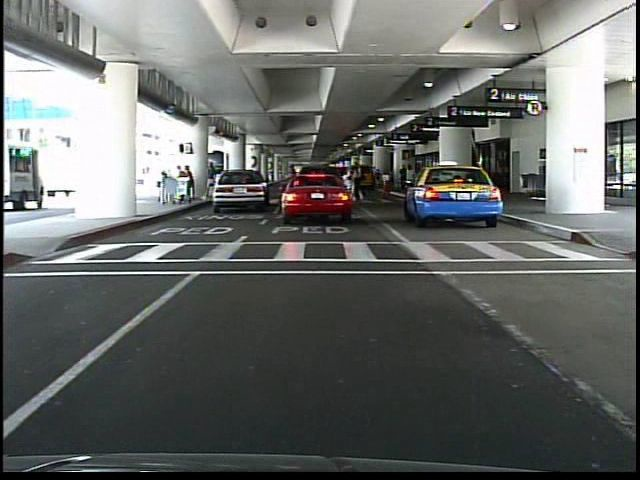person: (405, 165, 419, 200), (207, 162, 219, 200), (398, 161, 409, 197), (338, 169, 348, 201), (360, 160, 361, 201)
